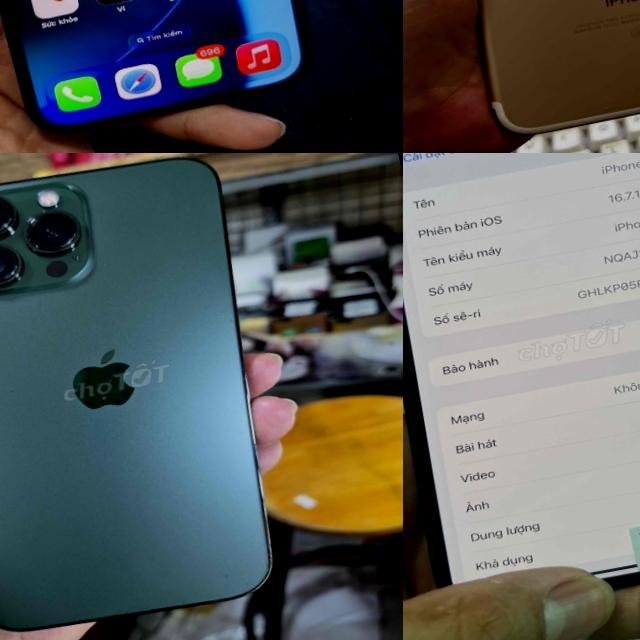gen_12_13: (0, 153, 304, 640), (0, 0, 336, 153)
gen_7_8: (414, 0, 640, 145)
gen_x_xs: (403, 153, 640, 640)
